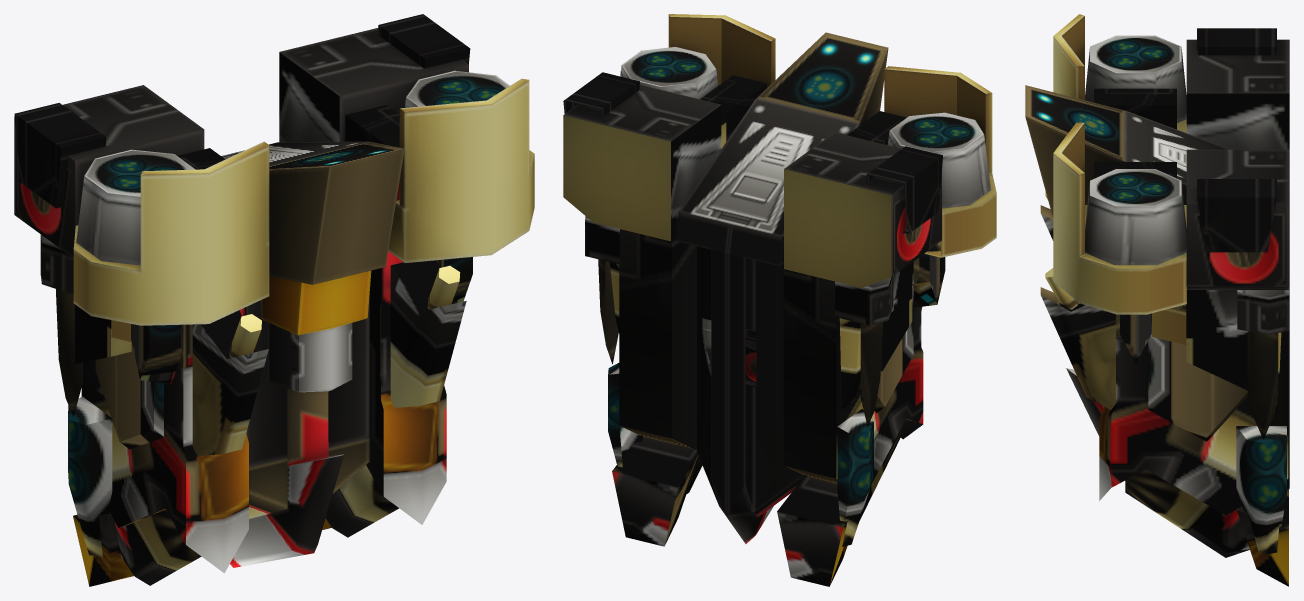
File: datan_common_ss0_base5_44adaa71.obj
The picture shows the model from 3 angles, left to right: view 1: azimuth 30°, elevation 25°; view 2: azimuth 150°, elevation 25°; view 3: azimuth 270°, elevation 25°; orthographic projection. The views are drawn at different scales.
Parts seen in each view (by area): view 1: datan_common_ss0_base5_44adaa71_mesh00, datan_common_ss0_base5_44adaa71_mesh01; view 2: datan_common_ss0_base5_44adaa71_mesh01, datan_common_ss0_base5_44adaa71_mesh00, datan_common_ss0_base5_44adaa71_mesh02; view 3: datan_common_ss0_base5_44adaa71_mesh01, datan_common_ss0_base5_44adaa71_mesh00.
Boxes of the visible parts, x1,y1,x2,y2 form: datan_common_ss0_base5_44adaa71_mesh00: (14,27,534,567); datan_common_ss0_base5_44adaa71_mesh01: (14,14,472,586); datan_common_ss0_base5_44adaa71_mesh01: (563,72,945,586); datan_common_ss0_base5_44adaa71_mesh00: (563,14,996,543); datan_common_ss0_base5_44adaa71_mesh02: (702,318,756,387); datan_common_ss0_base5_44adaa71_mesh01: (1040,28,1289,586); datan_common_ss0_base5_44adaa71_mesh00: (1025,14,1289,491).
Bounding box in the file's own units: 6.57 × 7.37 × 4.
1 material, 1 textured.
